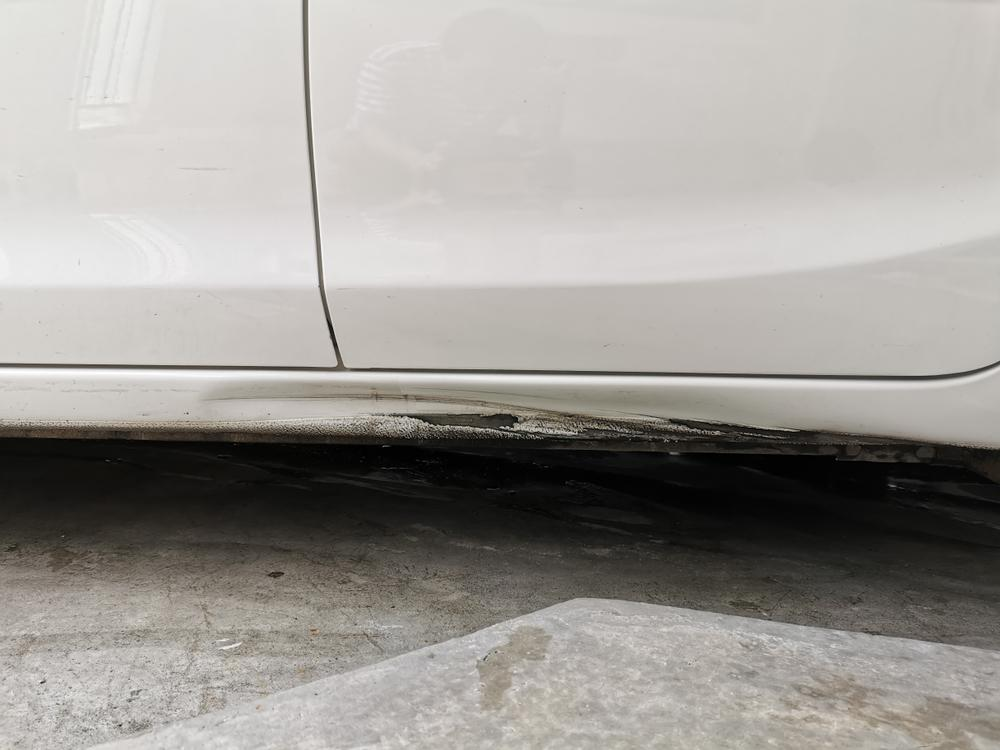scratch: (202, 376, 721, 440)
